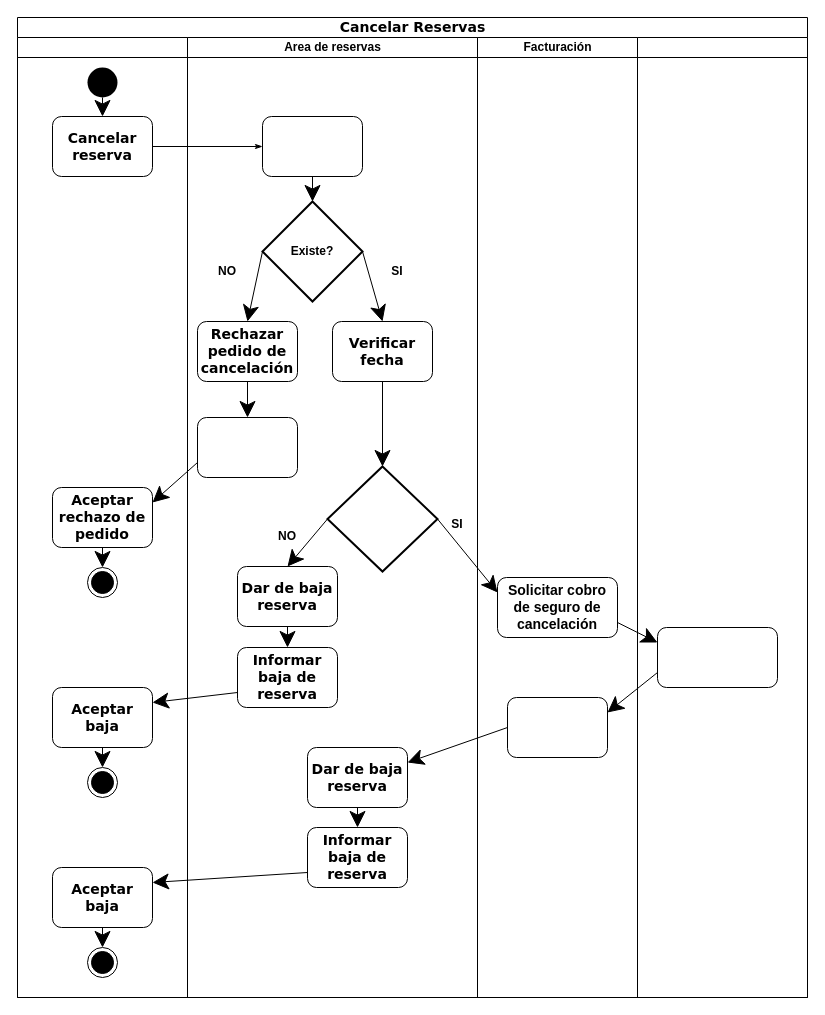
Image size: 825x1015. Some labels were removed from this diagram. The box of each missing label's shape, as (x1, y1, x2, y2) in pixels:
Cliente: (16, 36, 188, 998)
Cobrar seguro de cancelación: (656, 626, 778, 688)
Empresa de tarjeta de crédito: (636, 36, 808, 998)
Faltan menos de 24hs?: (326, 465, 438, 572)
Generar factura del seguro: (506, 696, 608, 758)
Informar rechazo de pedido: (196, 416, 298, 478)
Verificar existencia reserva: (262, 116, 362, 176)
